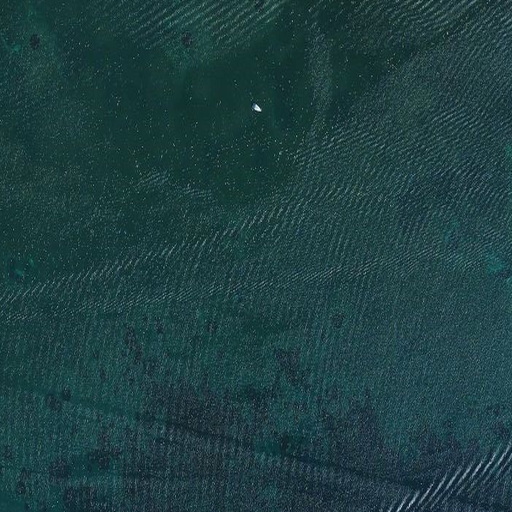ship: (250, 101, 261, 113)
